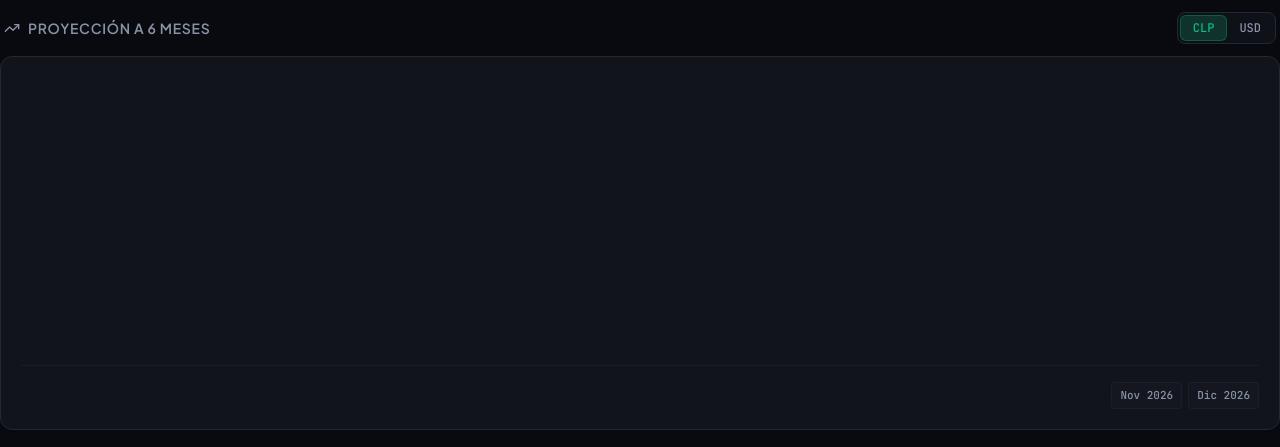
ProjectionChart Component › renders empty projection message when all periods have zero amount in selected currency
This screenshot has width=1280, height=447.
// Cambiar a USD
Click the button "USD". click: (1250, 28)
box: [1227,16,1273,40]
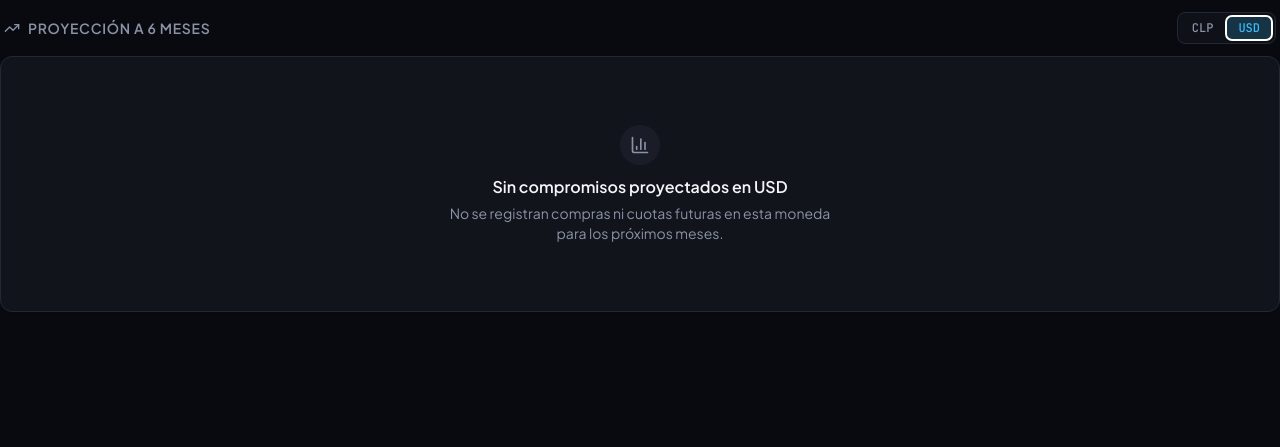
Expected: the heading "Sin compromisos proyectados en USD" is shown, [492,175,788,199]
